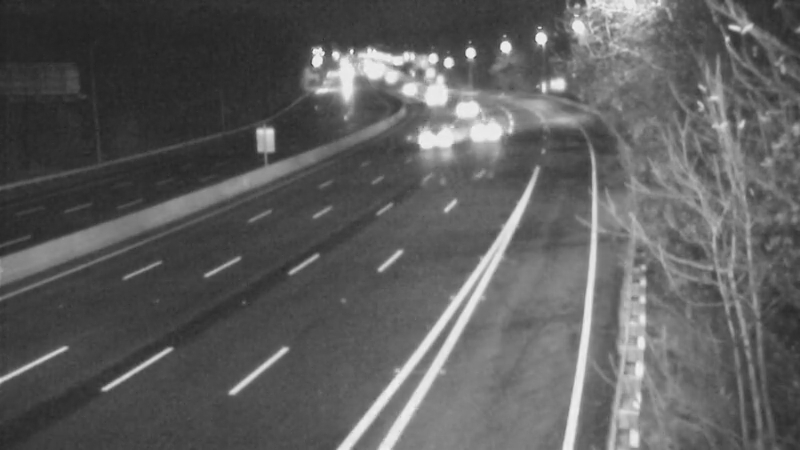vehicle: (376, 61, 426, 111), (405, 71, 455, 121), (437, 82, 487, 132), (461, 102, 511, 152), (413, 112, 463, 162)
